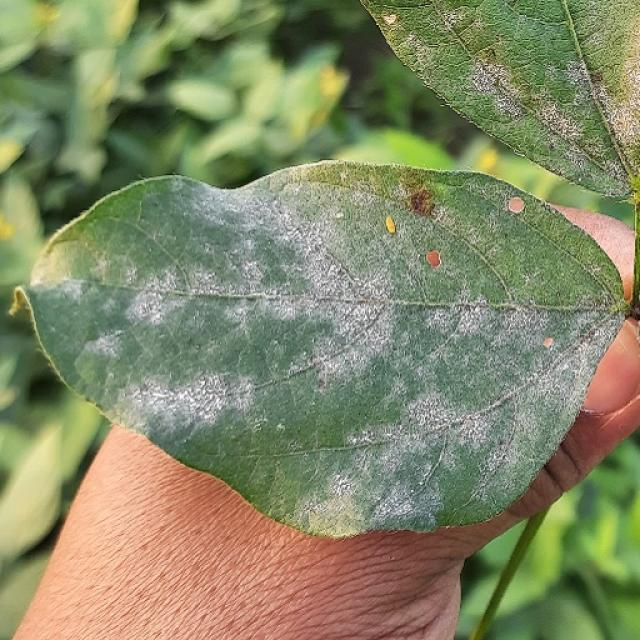Blackgram: (15, 161, 625, 536)
Powdery_Mildew: (97, 266, 486, 458), (190, 203, 389, 304), (260, 301, 397, 404), (385, 347, 504, 445), (493, 328, 600, 434), (120, 272, 245, 352), (134, 376, 265, 435), (140, 355, 243, 426), (583, 48, 636, 167), (531, 74, 599, 146), (366, 473, 431, 527), (470, 59, 520, 117), (614, 48, 640, 139), (81, 331, 127, 372), (232, 255, 271, 285), (326, 472, 358, 505), (561, 63, 590, 92), (440, 10, 466, 33), (403, 33, 424, 55), (271, 339, 281, 349)
